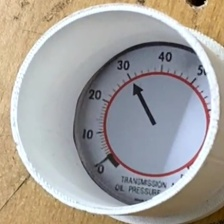gauge: (74, 41, 211, 205)
